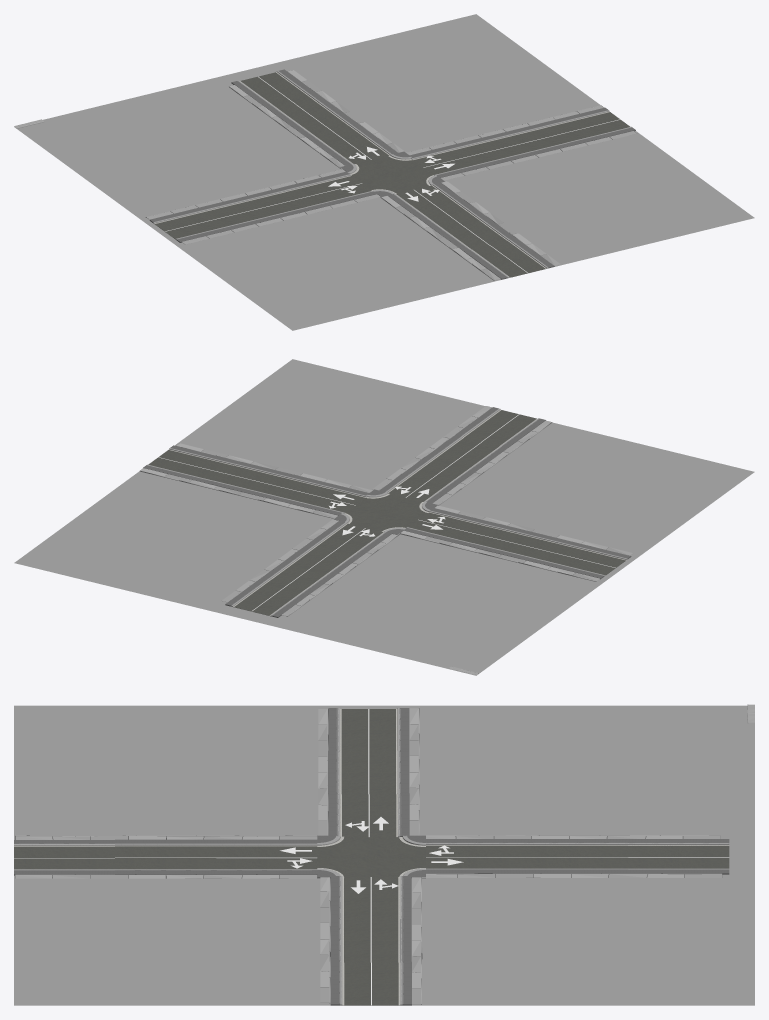
Rendered from ambiente.obj.
3 renders of one model, top to bottom at view 1: azimuth 30°, elevation 25°; view 2: azimuth 150°, elevation 25°; view 3: azimuth 270°, elevation 25°, orthographic. The views are drawn at different scales.
Visible parts, largest first — view 1: ground_1, 4_41, 6_152, 6_128, 6_104, 6_19, 6_31, 6_92, 6_140, 6_68, 6_56, 6_80 (+10 smaller); view 2: ground_1, 4_41, 6_19, 6_140, 6_31, 6_128, 6_104, 6_152, 6_68, 6_92, 6_7, 6_80 (+10 smaller); view 3: ground_1, 4_41, 6_68, 6_92, 6_152, 6_104, 6_31, 6_19, 6_128, 6_140, 6_80, 6_56 (+17 smaller).
Boxes of the visible parts, box(x1,y1,x2,y2) form: ground_1: box(14, 14, 754, 330); 4_41: box(351, 156, 434, 193); 6_152: box(473, 241, 546, 277); 6_128: box(154, 208, 240, 238); 6_104: box(221, 192, 306, 222); 6_19: box(479, 128, 564, 158); 6_31: box(545, 112, 630, 142); 6_92: box(278, 100, 350, 136); 6_140: box(241, 72, 313, 108); 6_68: box(434, 213, 507, 249); 6_56: box(396, 185, 468, 221); 6_80: box(316, 128, 389, 163); ground_1: box(14, 359, 754, 675); 4_41: box(345, 494, 426, 531); 6_19: box(214, 466, 299, 496); 6_140: box(233, 579, 306, 616); 6_31: box(148, 450, 233, 480); 6_128: box(540, 544, 625, 575); 6_104: box(474, 528, 559, 559); 6_152: box(464, 410, 536, 446); 6_68: box(426, 438, 498, 474); 6_92: box(272, 551, 344, 587); 6_7: box(280, 482, 365, 512); 6_80: box(310, 523, 382, 559); ground_1: box(14, 705, 754, 1005); 4_41: box(317, 836, 425, 876); 6_68: box(115, 846, 216, 869); 6_92: box(527, 845, 628, 868); 6_152: box(14, 846, 114, 869); 6_104: box(341, 751, 395, 794); 6_31: box(341, 962, 402, 1005); 6_19: box(344, 920, 398, 962); 6_128: box(341, 709, 395, 751); 6_140: box(628, 846, 729, 868); 6_80: box(426, 845, 527, 868); 6_56: box(216, 846, 317, 869).
Size of the model in its own units: 9129 by 18.3 by 9530.
Materials: 28 (21 with a texture image).
